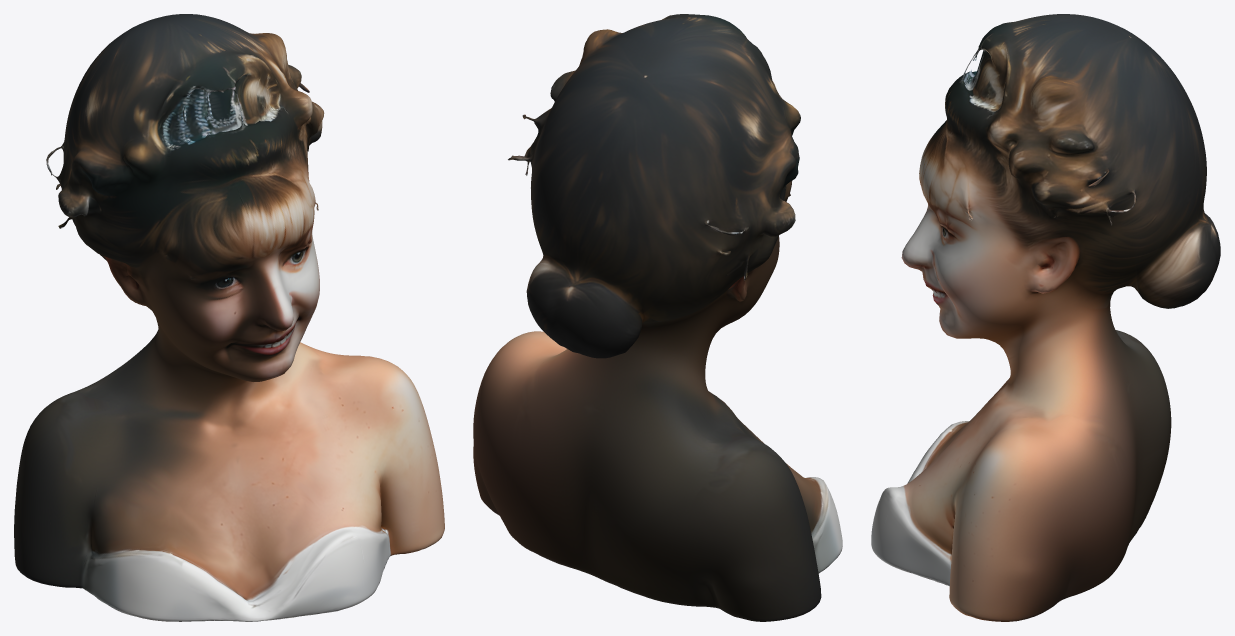
The model's file is laura.glb.
The picture shows the model from 3 angles, left to right: view 1: azimuth 30°, elevation 25°; view 2: azimuth 150°, elevation 25°; view 3: azimuth 270°, elevation 25°; orthographic projection. The views are drawn at different scales.
Parts seen in each view (by area): view 1: base; view 2: base; view 3: base.
Boxes of the visible parts, x1,y1,x2,y2 form: base: [14, 14, 444, 621]; base: [473, 14, 842, 621]; base: [871, 14, 1220, 621].
Size of the model in its own units: 1.41 by 1.91 by 1.21.
Materials: 1 (1 with a texture image).
